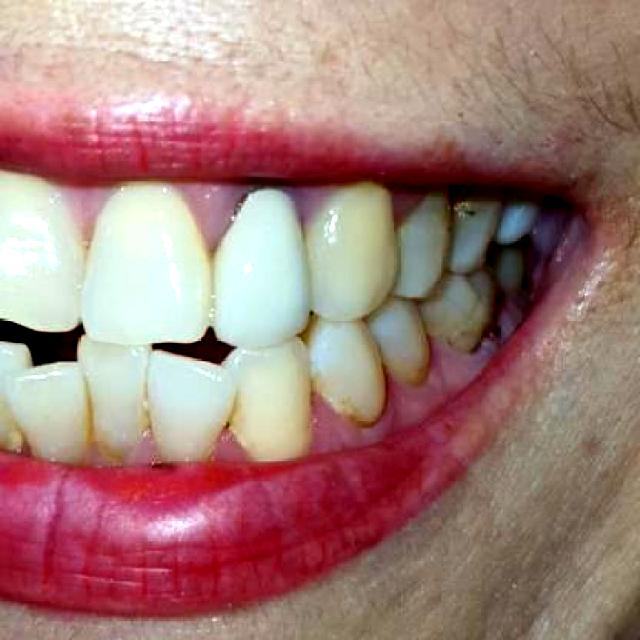Plaque: (455, 206, 488, 220)
